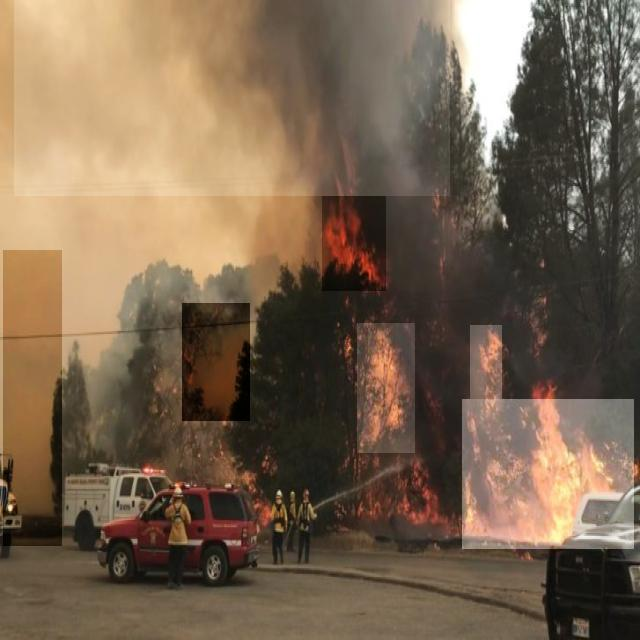Fire: (462, 399, 634, 549), (322, 166, 387, 292), (357, 323, 415, 453), (470, 325, 502, 430)
Smoke: (14, 0, 450, 196), (3, 250, 62, 546), (182, 303, 250, 421)
